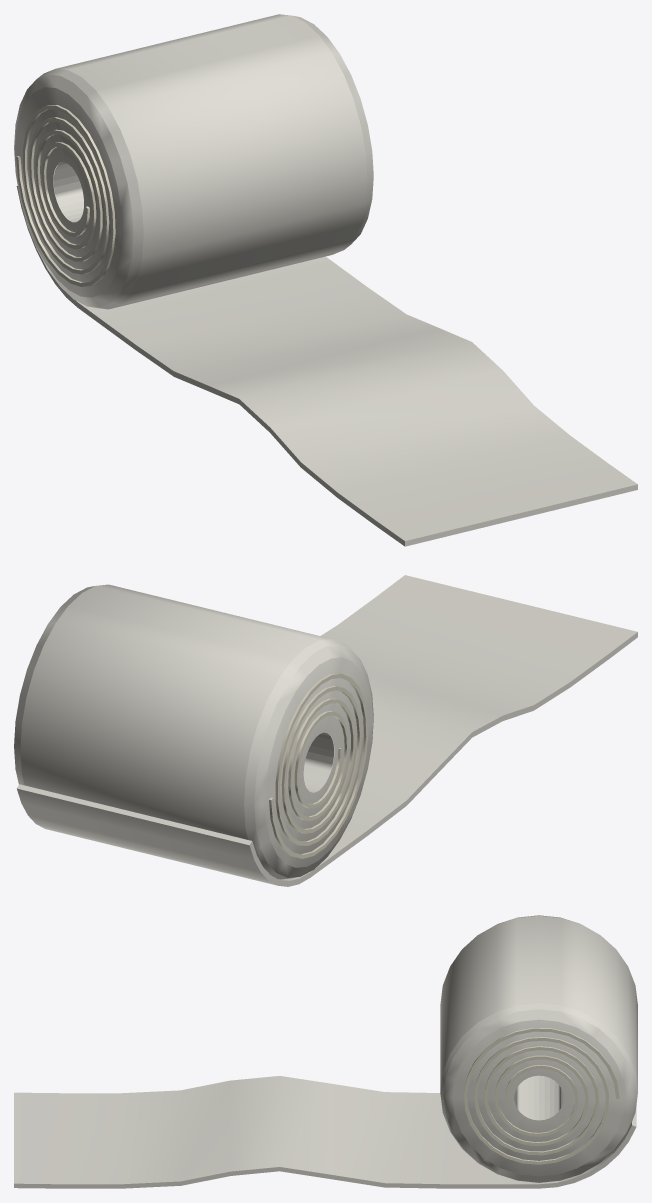
The model's file is bandage.glb.
3 renders of one model, top to bottom at view 1: azimuth 30°, elevation 25°; view 2: azimuth 150°, elevation 25°; view 3: azimuth 270°, elevation 25°, orthographic. The views are drawn at different scales.
Parts seen in each view (by area): view 1: bandage_body, tail; view 2: bandage_body, tail; view 3: bandage_body, tail.
Boxes of the visible parts, left/top/right/bottom form: bandage_body: left=14, top=14, right=373, bottom=309; tail: left=16, top=177, right=637, bottom=546; bandage_body: left=14, top=584, right=373, bottom=879; tail: left=16, top=575, right=637, bottom=886; bandage_body: left=440, top=915, right=637, bottom=1182; tail: left=14, top=1076, right=636, bottom=1188.
Bounding box in the file's own units: 0.0764 × 0.0656 × 0.202.
